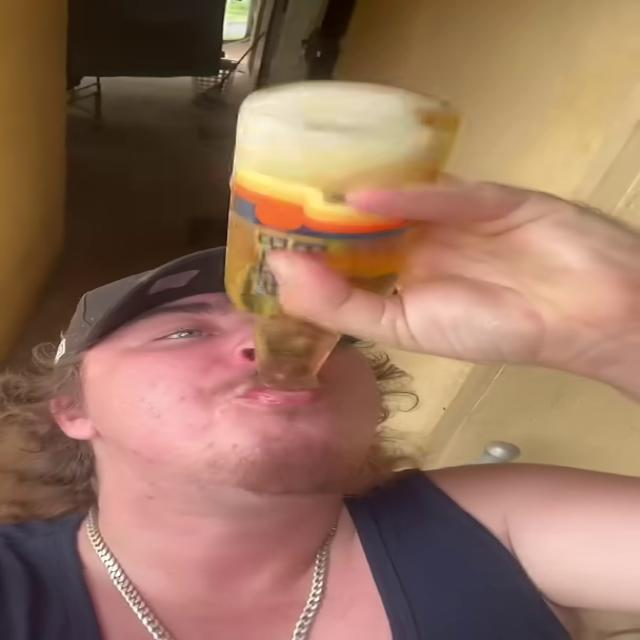Bottle: (224, 80, 460, 388)
Hand: (203, 166, 640, 377)
Mouth: (222, 369, 343, 410)
